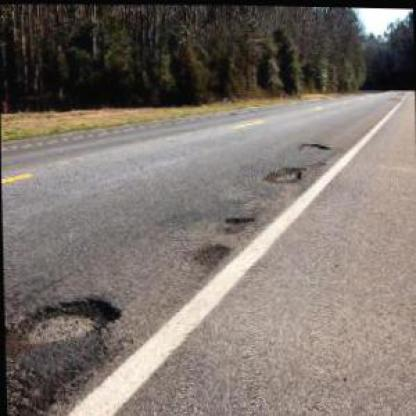pothole: (17, 294, 119, 348), (189, 239, 230, 269), (260, 162, 304, 184), (221, 210, 255, 232), (295, 137, 329, 151)
